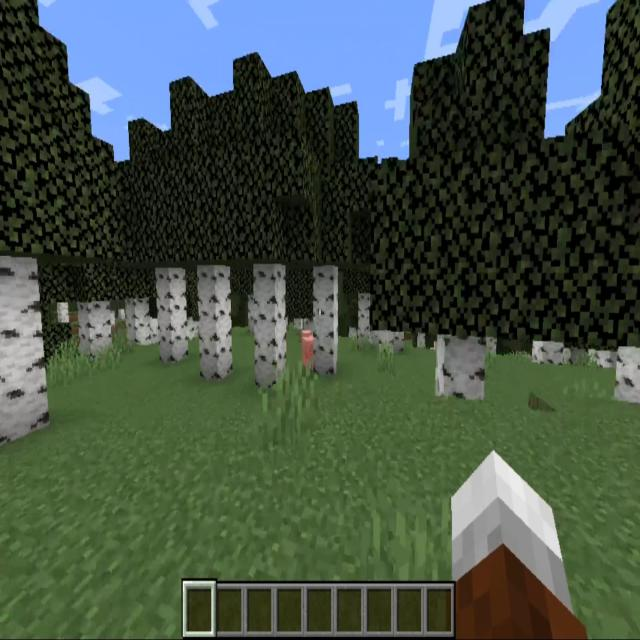Pig: (298, 323, 316, 372)
